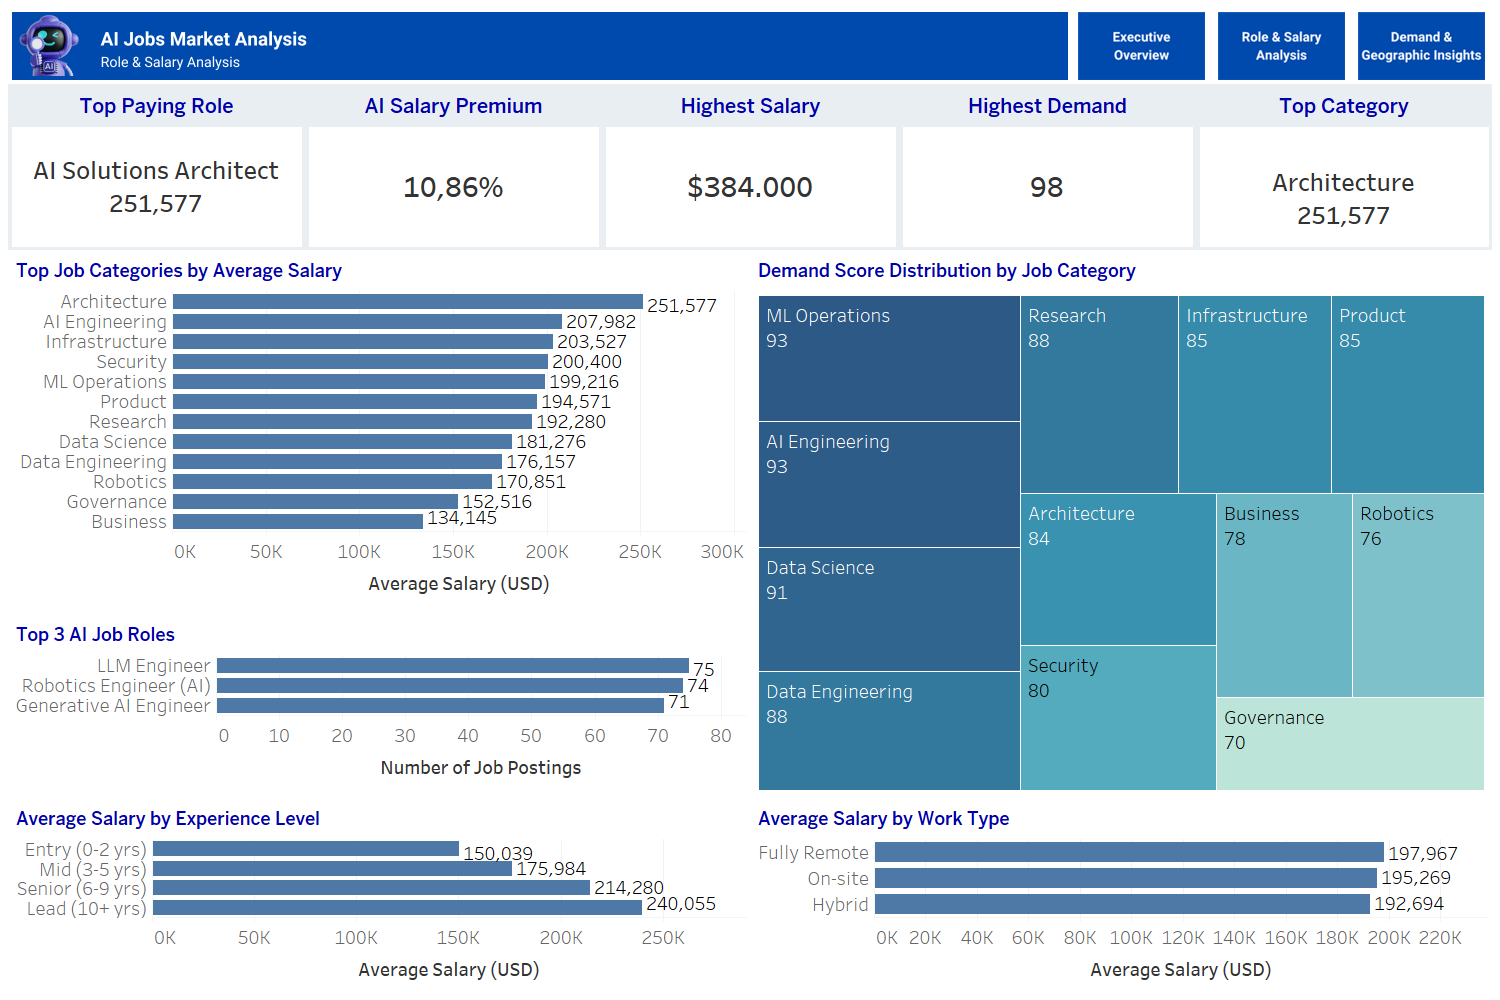

The page's visual inventory and layout, read from the dashboard file:
{"tool":"tableau","page":{"name":"Dashboard - Role & Salary Analysis","canvas":[1500,1000],"ordinal":2},"visuals":[{"type":"image","param":"Image/Header (1).png","box":[8,8,1064,76]},{"type":"dashboard-object","box":[1072,8,140,76]},{"type":"dashboard-object","box":[1212,8,140,76]},{"type":"dashboard-object","box":[1352,8,140,76]},{"type":"worksheet","title":"KPI - Top Paying Role","mark":"Text","box":[8,84,297,166]},{"type":"worksheet","title":"KPI AI Salary Premium","mark":"Automatic","box":[305,84,297,166]},{"type":"worksheet","title":"KPI - Highest Annual Salary","mark":"Automatic","box":[602,84,297,166]},{"type":"worksheet","title":"KPI - Highest Demand Score","mark":"Automatic","box":[899,84,297,166]},{"type":"worksheet","title":"KPI - Highest Paying Category","mark":"Text","box":[1196,84,296,166]},{"type":"worksheet","title":"Salary - Top Job Categories","mark":"Automatic","rows":["job_category"],"cols":["annual_salary_usd"],"box":[8,250.2,742,363.8]},{"type":"worksheet","title":"Demand - Job Category Hitmap","mark":"Square","box":[750,250.2,742,547.8]},{"type":"worksheet","title":"Role - Top 3 AI Roles","mark":"Automatic","rows":["job_title"],"cols":["job_id"],"box":[8,614,742,184]},{"type":"worksheet","title":"Salary - Experience Level Impact","mark":"Automatic","rows":["experience_level"],"cols":["annual_salary_usd"],"box":[8,798,742,194]},{"type":"worksheet","title":"Salary - Work Type Comparison","mark":"Automatic","rows":["remote_work"],"cols":["annual_salary_usd"],"box":[750,798,742,194]}]}

Visuals, with their boxes in screenshot pixels (x1, y1, x2, y2), scaled from the page's 1500x1000 canvas onto the 1500x1000 screenshot:
image: 8, 8, 1072, 84
dashboard-object: 1072, 8, 1212, 84
dashboard-object: 1212, 8, 1352, 84
dashboard-object: 1352, 8, 1492, 84
"KPI - Top Paying Role" worksheet (Text marks): 8, 84, 305, 250
"KPI AI Salary Premium" worksheet: 305, 84, 602, 250
"KPI - Highest Annual Salary" worksheet: 602, 84, 899, 250
"KPI - Highest Demand Score" worksheet: 899, 84, 1196, 250
"KPI - Highest Paying Category" worksheet (Text marks): 1196, 84, 1492, 250
"Salary - Top Job Categories" worksheet: 8, 250, 750, 614
"Demand - Job Category Hitmap" worksheet (Square marks): 750, 250, 1492, 798
"Role - Top 3 AI Roles" worksheet: 8, 614, 750, 798
"Salary - Experience Level Impact" worksheet: 8, 798, 750, 992
"Salary - Work Type Comparison" worksheet: 750, 798, 1492, 992
